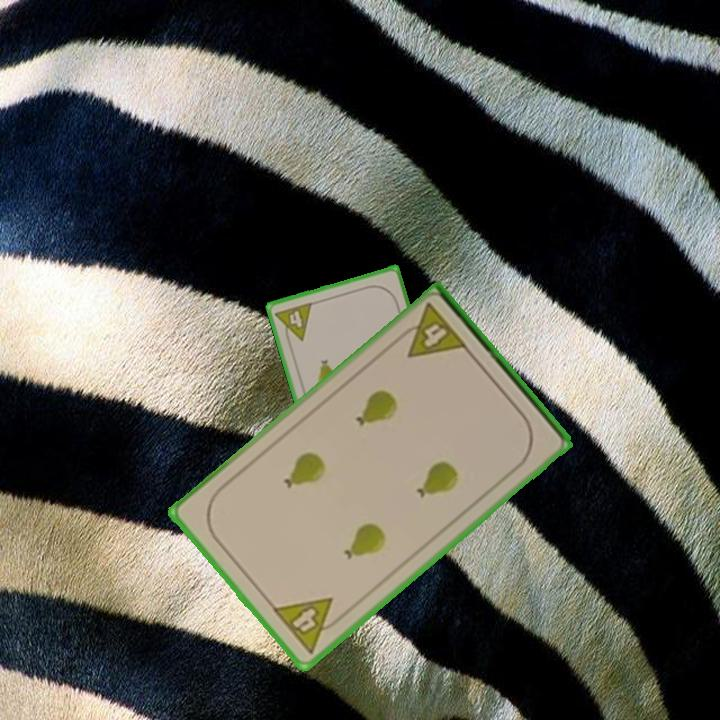4p: (268, 594, 349, 657), (392, 300, 470, 364), (271, 299, 315, 347)
